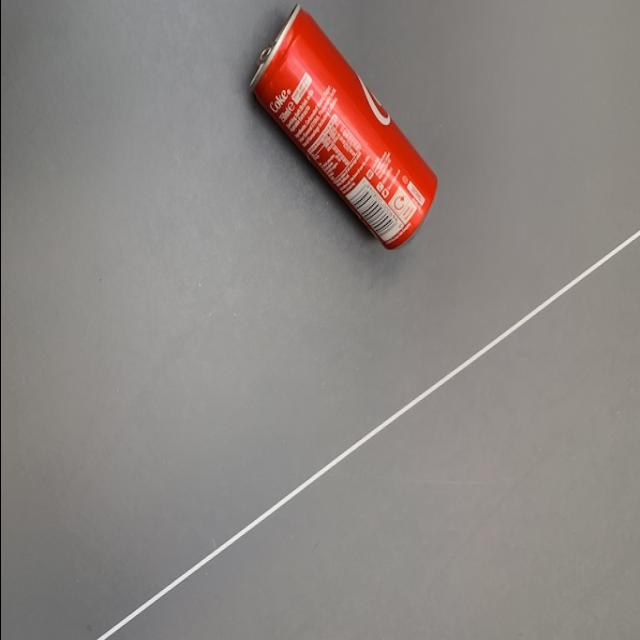Aluminum Can: (240, 6, 436, 258)
